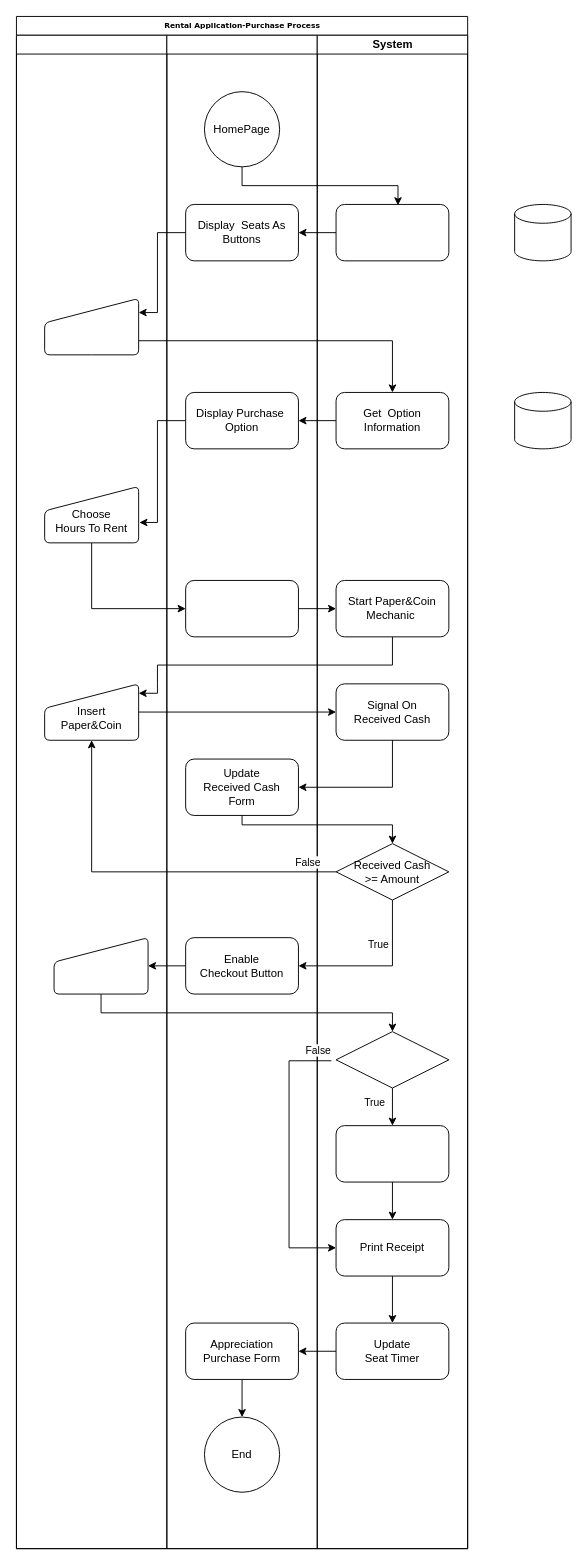
The diagram is 588 pixels wide and 1565 high, and some of its shapes have lost their labels. The shapes that lost their labels are listed below. From the top down, each one's box as (x1, y1, x2, y2) in pixels, then its label:
(335, 204, 449, 261): Get Seat Information
(44, 298, 139, 355): Choose Seat
(185, 580, 298, 637): Request User To Insert Cash
(16, 34, 167, 1549): User
(166, 34, 317, 1549): User Interface
(53, 937, 148, 994): Click On Checkout Button
(335, 1031, 449, 1088): Received Cash >Amount
(335, 1125, 449, 1182): Change Cash
